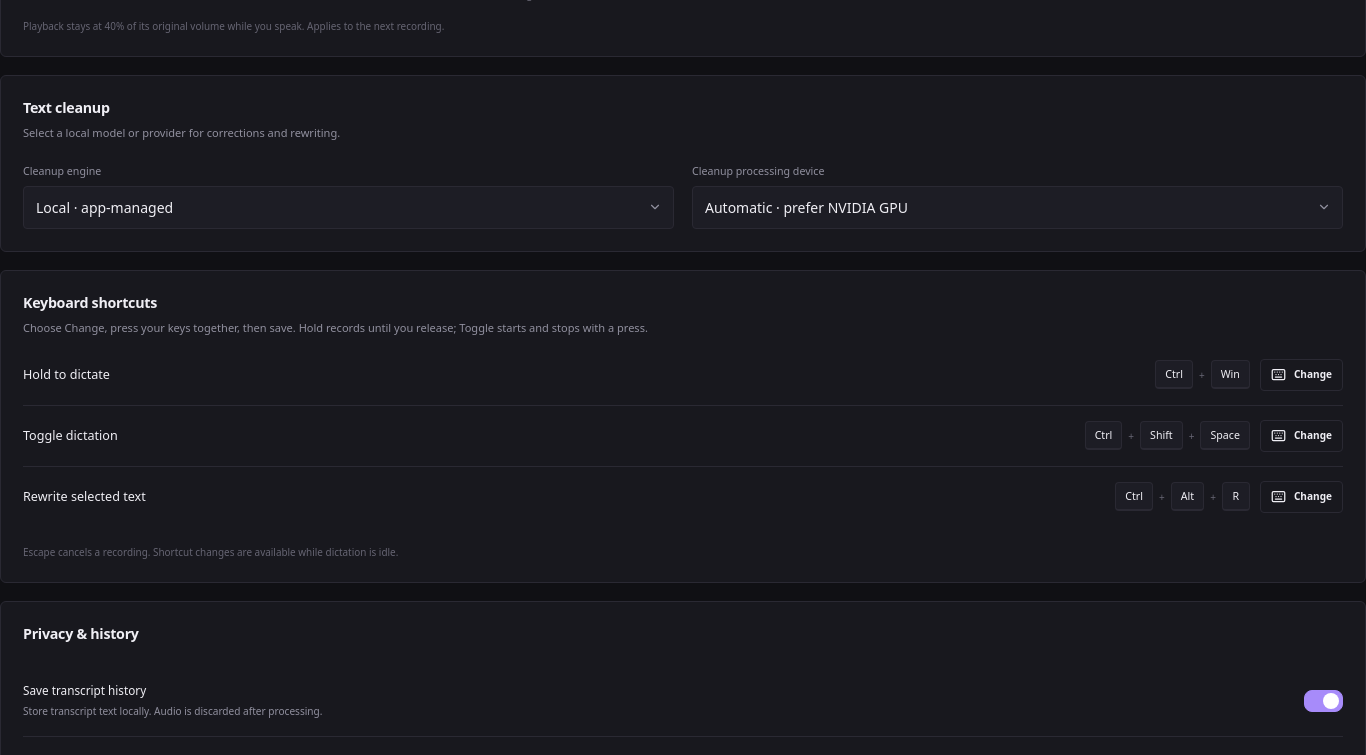
Test: Persisted settings › keeps a rejected shortcut available for retry without changing the saved value
(page scrolled)
Click the button with aria-label "Change hold to dictate": (1301, 375) x1=1260 y1=359 x2=1343 y2=391
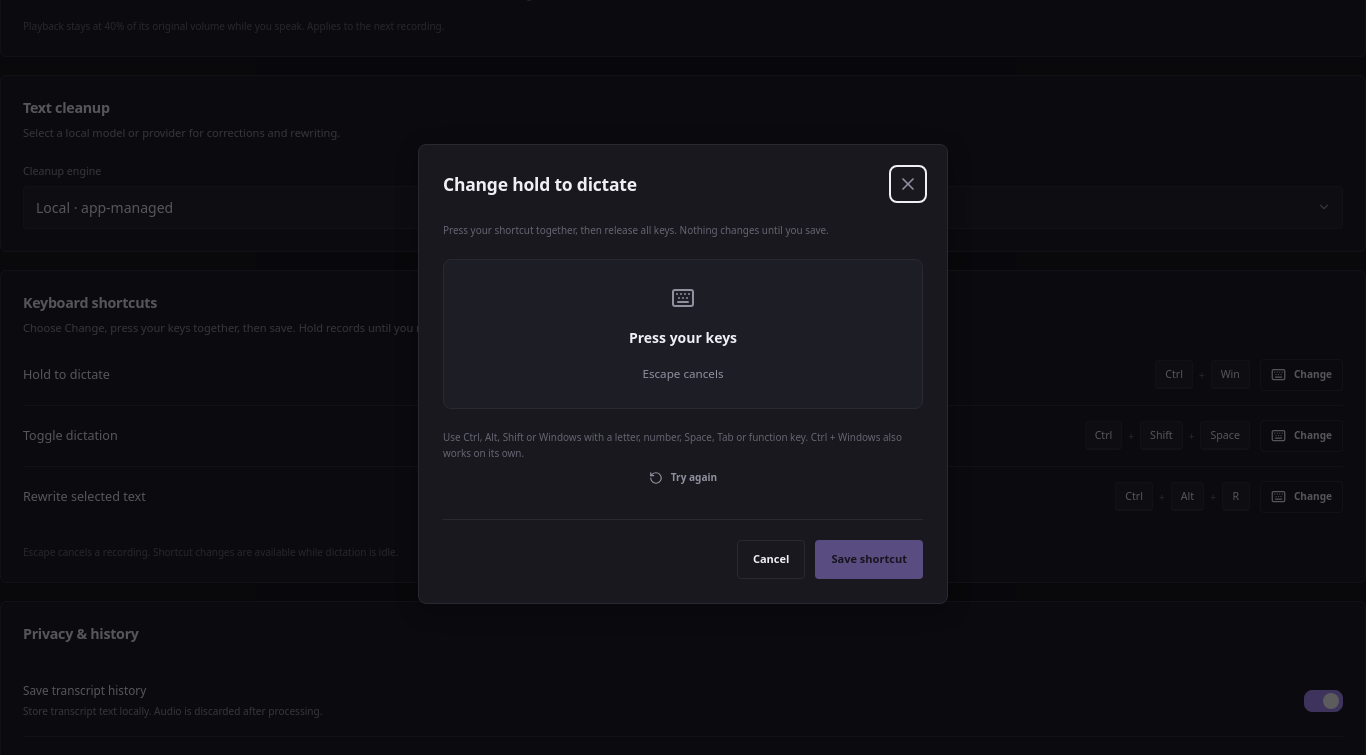
Press h
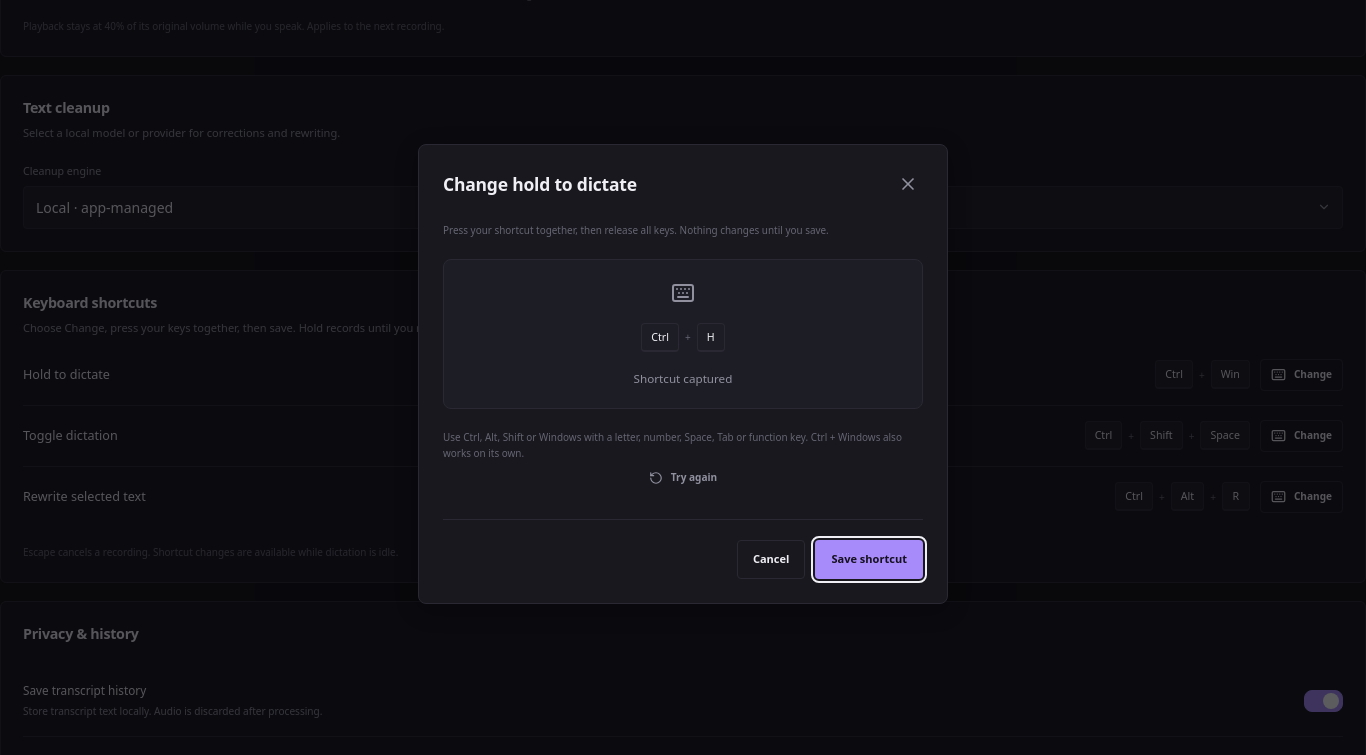
Click the button "Save shortcut": (869, 559) x1=815 y1=540 x2=923 y2=579
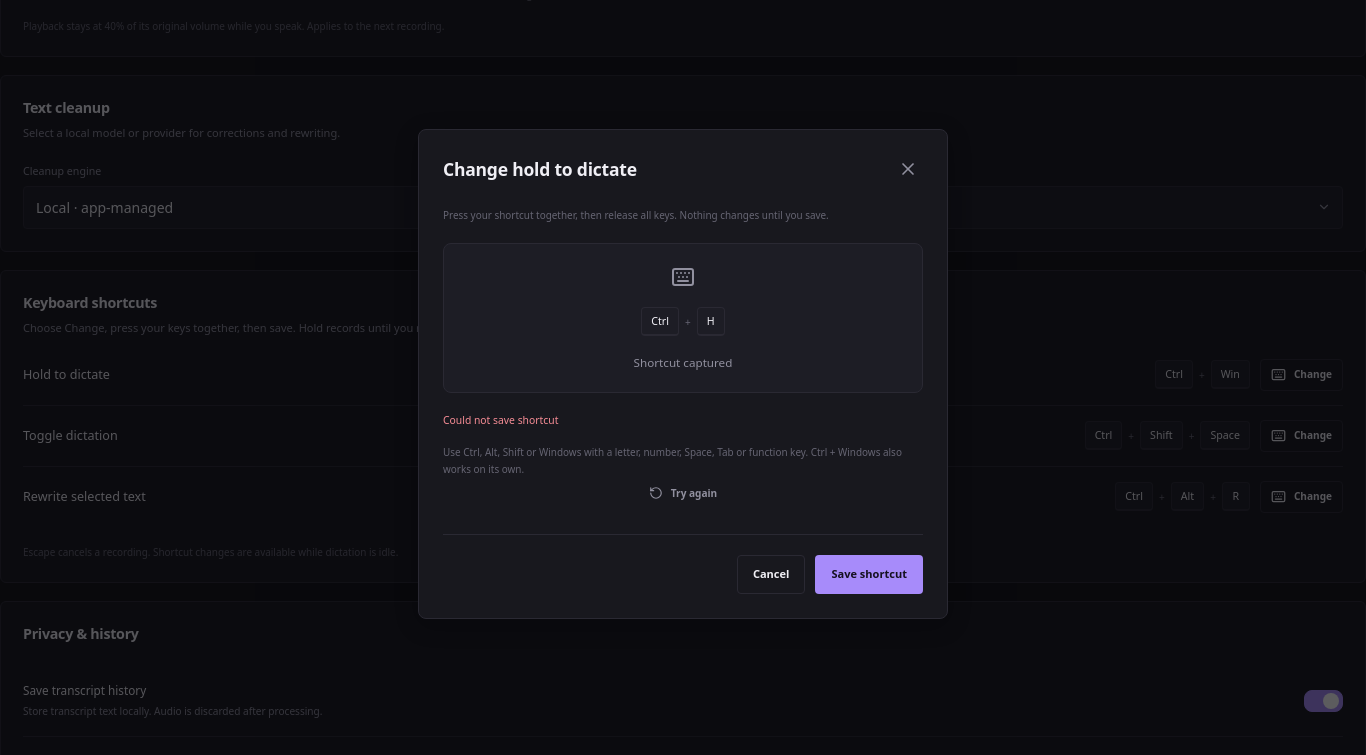
Result: the button "Save shortcut" is enabled at x1=815 y1=555 x2=923 y2=594
Result: the message reads "Could not save shortcut" at x1=443 y1=413 x2=558 y2=427
Click the button "Cancel": (771, 575) x1=737 y1=555 x2=805 y2=594
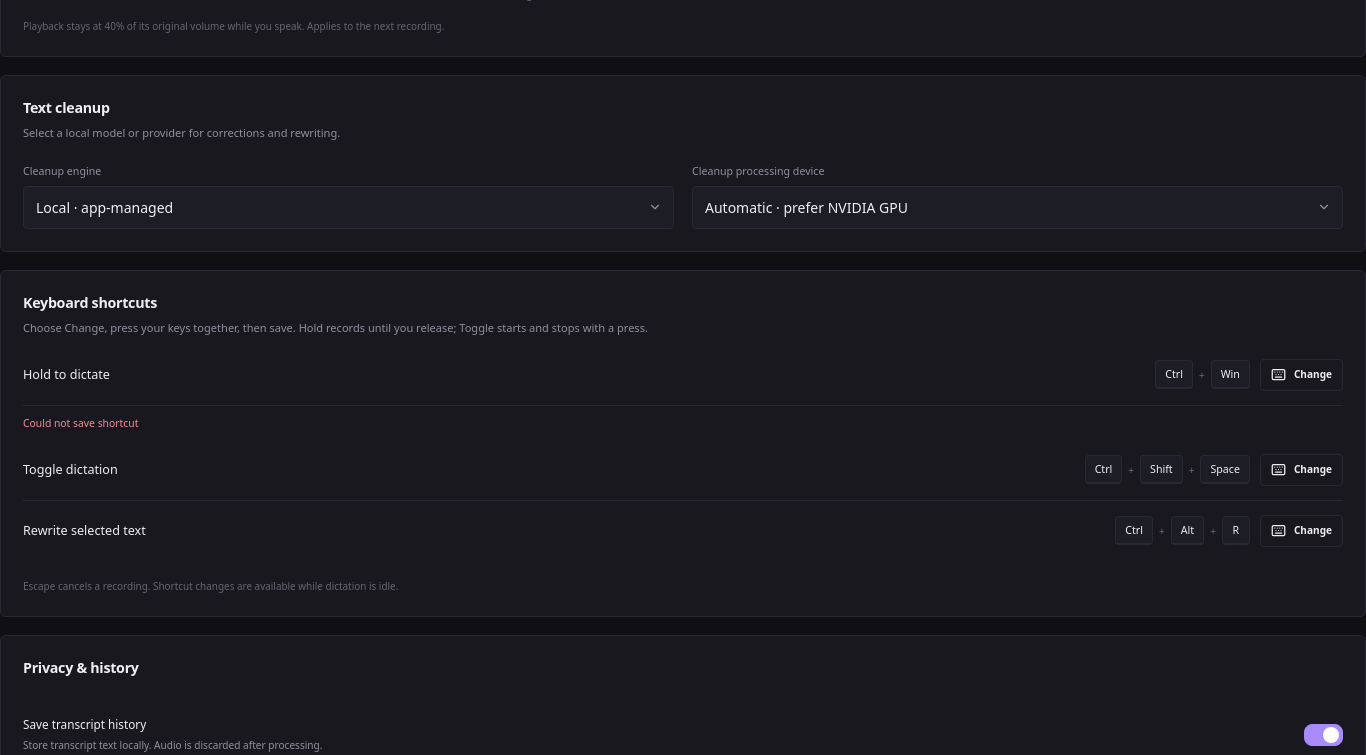
Result: the dialog is gone
